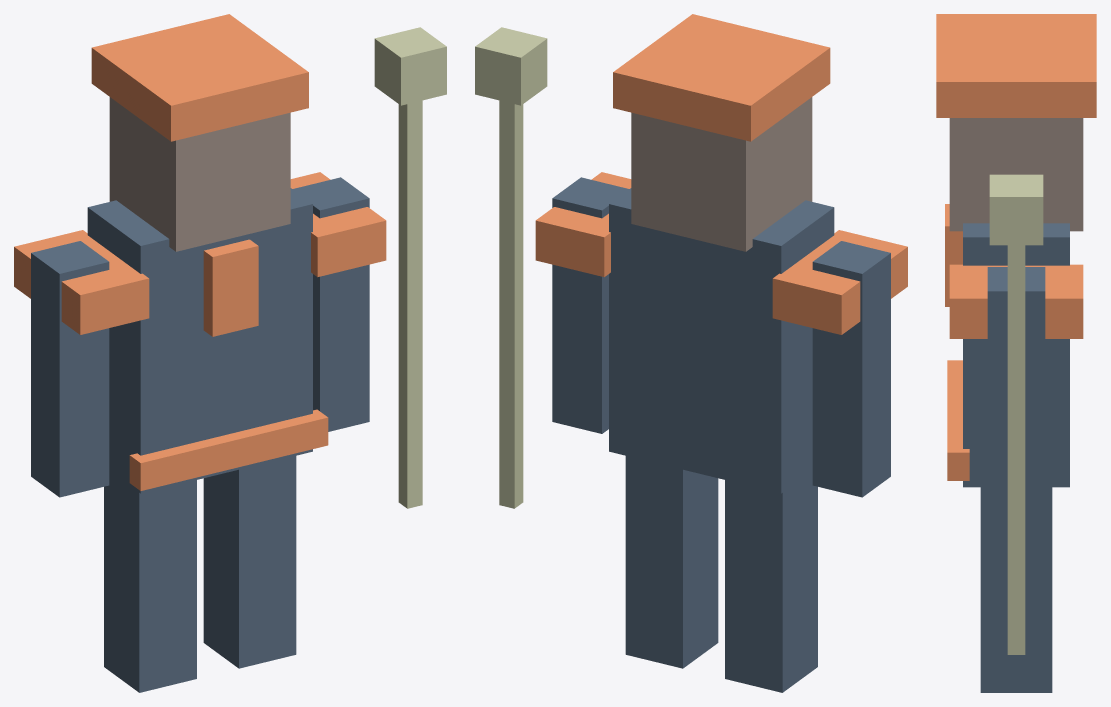
File: 07_brant_riftwalker_archivist_of_maintenance.glb
The picture shows the model from 3 angles, left to right: view 1: azimuth 30°, elevation 25°; view 2: azimuth 150°, elevation 25°; view 3: azimuth 270°, elevation 25°; orthographic projection.
Visible parts, largest first — view 1: Brant Riftwalker, Archivist of Maintenance; view 2: Brant Riftwalker, Archivist of Maintenance; view 3: Brant Riftwalker, Archivist of Maintenance.
Boxes of the visible parts, x1,y1,x2,y2 form: Brant Riftwalker, Archivist of Maintenance: (14, 14, 446, 692); Brant Riftwalker, Archivist of Maintenance: (475, 14, 907, 692); Brant Riftwalker, Archivist of Maintenance: (936, 14, 1096, 692).
Size of the model in its own units: 1.04 by 1.54 by 0.3695.
